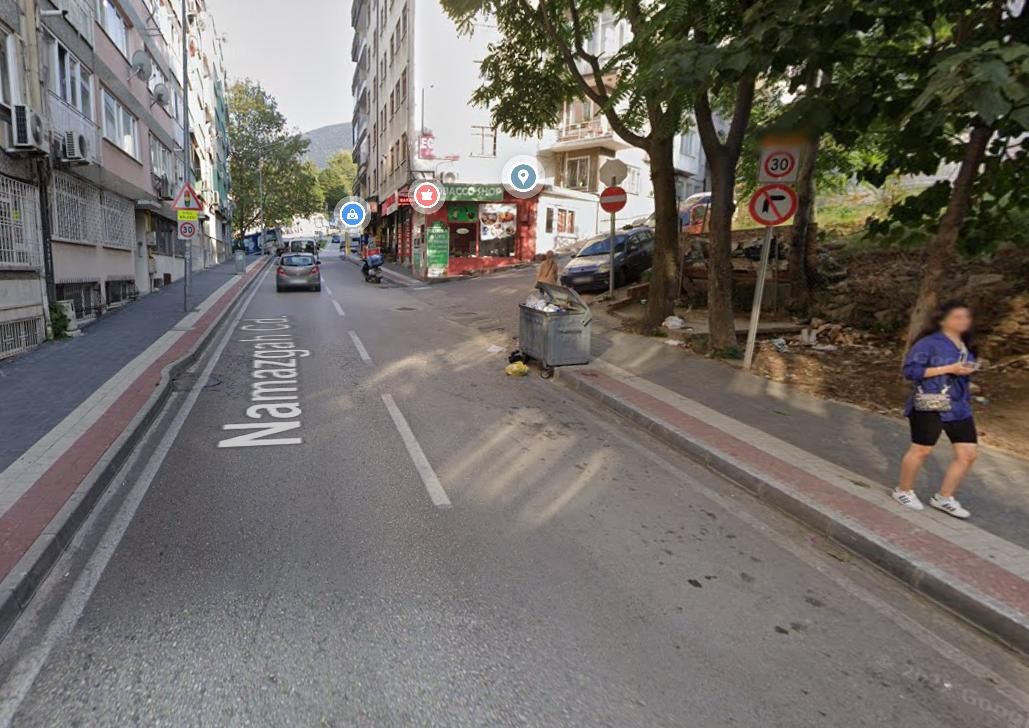rightturnsareforbidden: (749, 184, 798, 227)
